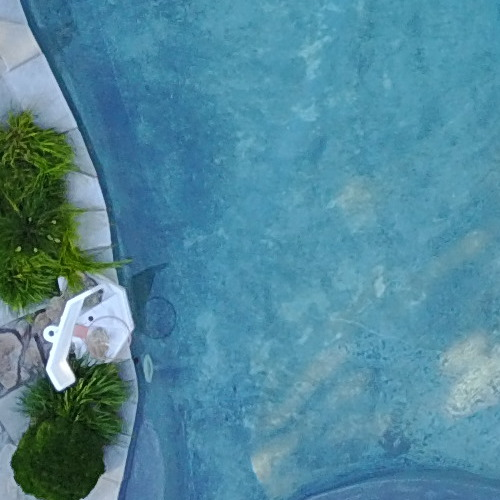basketball: (15, 255, 151, 405)
no larvae: (13, 253, 149, 403)
toy: (12, 255, 159, 423)
